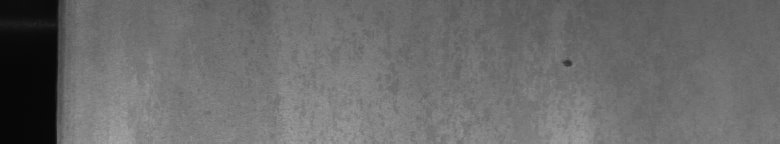fi: (561, 55, 576, 72)
